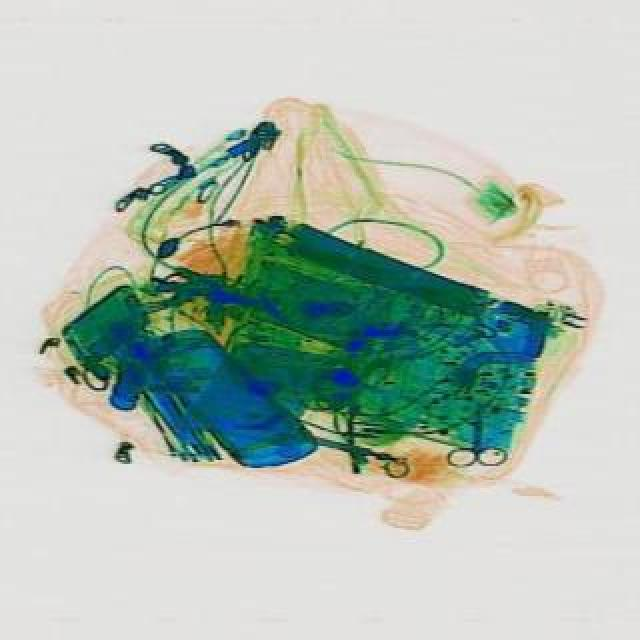pliers: (452, 398, 518, 468)
